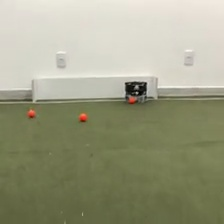ball: (26, 106, 36, 117), (79, 111, 87, 121), (128, 95, 135, 104)
goal: (29, 74, 158, 104)
robot: (123, 80, 148, 104)
